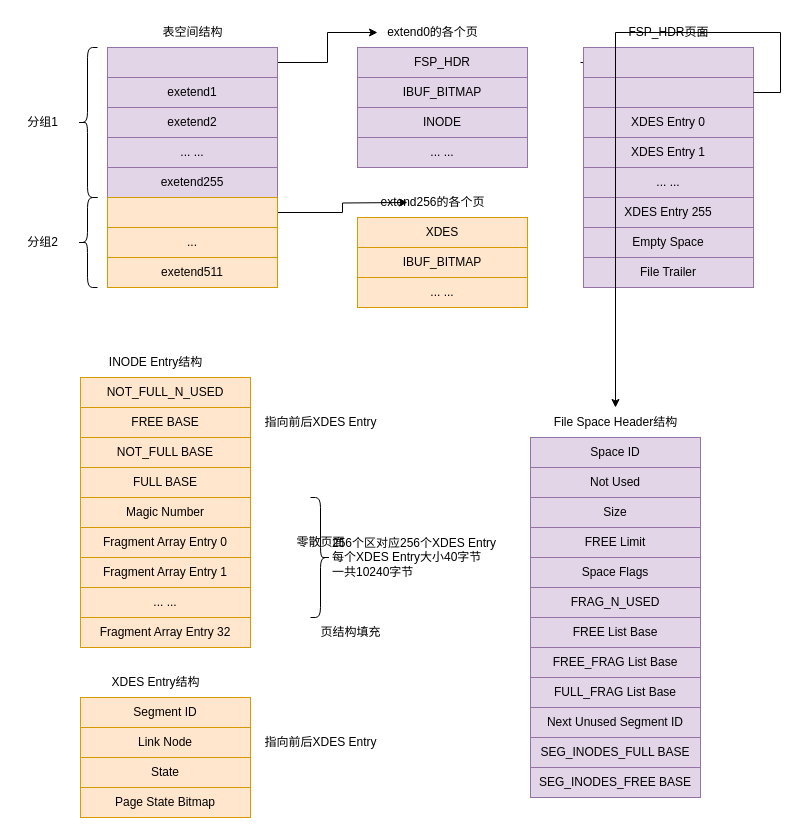
The diagram is 806 pixels wide and 835 high, and some of its shapes have lost their labels. Here are the shapes that lost their labels. From the top down, the centre of each, then its label:
[192,62]: exetend0
[668,62]: File Header
[668,92]: File Space Header
[192,212]: exetend256
